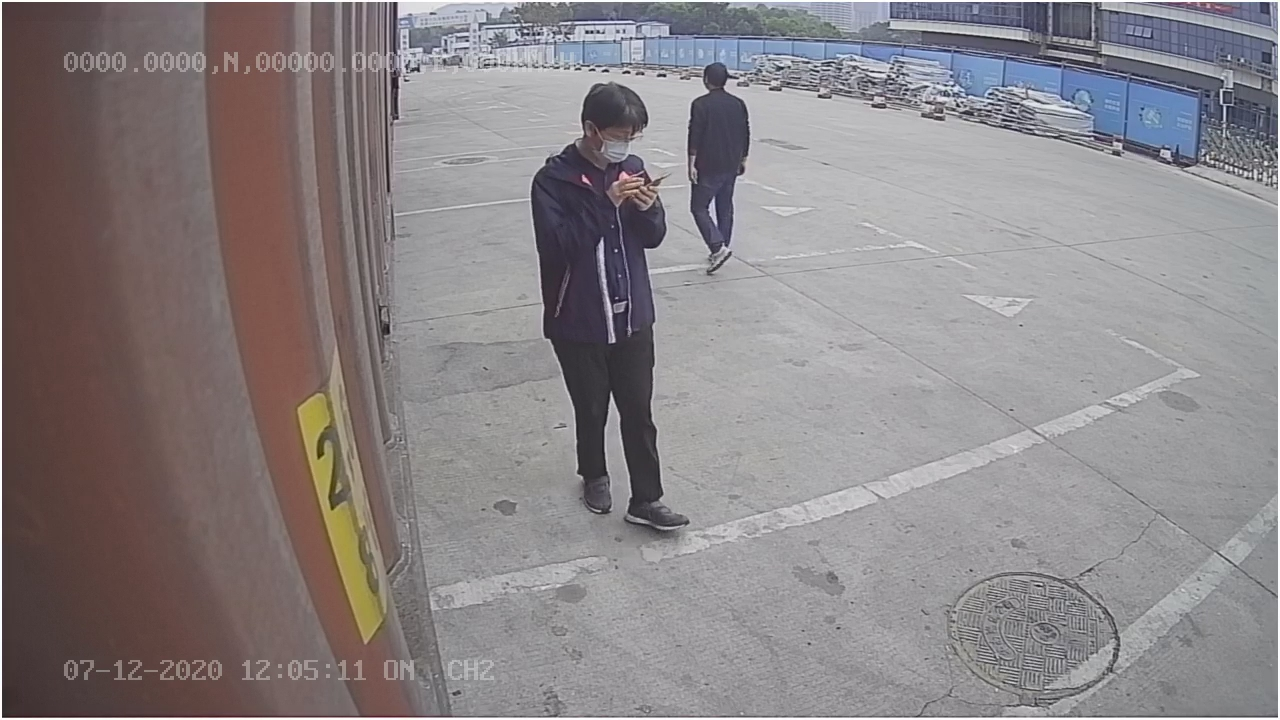person: (515, 74, 687, 535)
